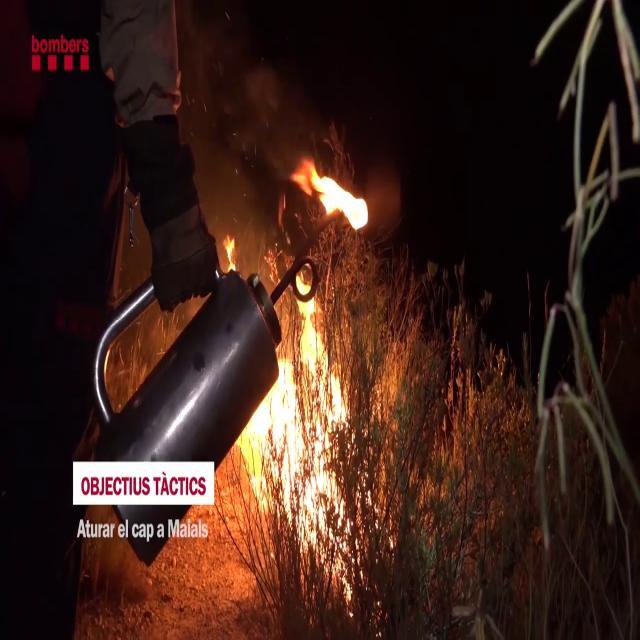Fire: (244, 268, 354, 580), (296, 153, 374, 234)
